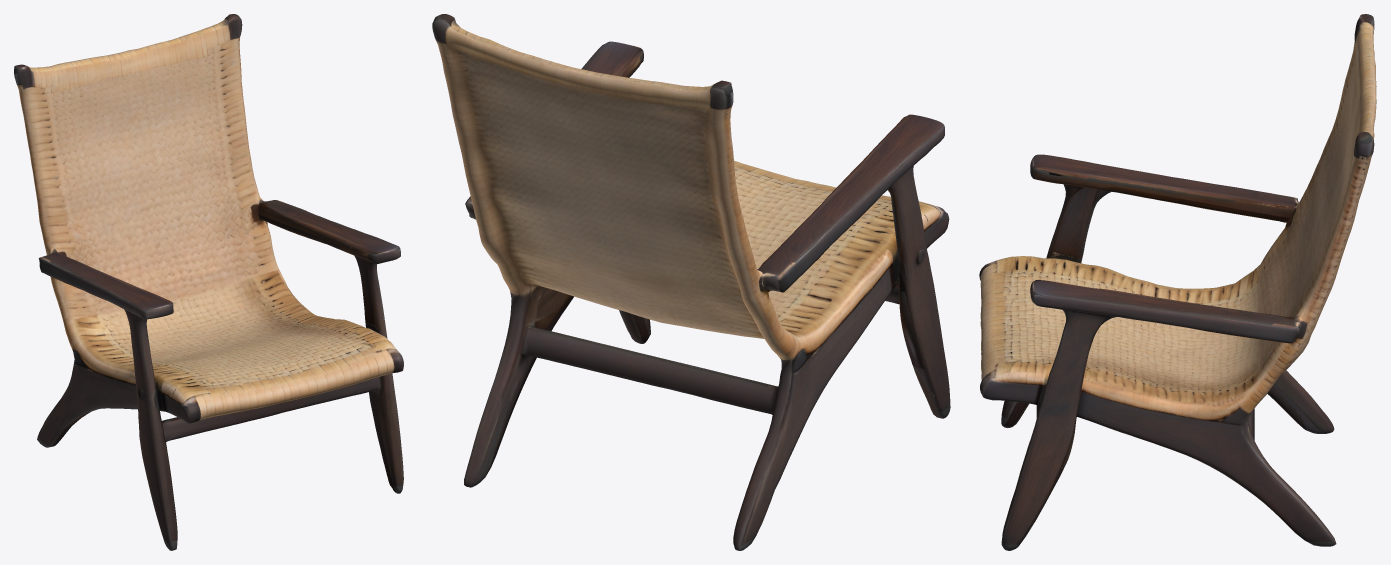
Rendered from woven_lounge_chair.glb.
3 views of the same model, side by side, from view 1: azimuth 30°, elevation 25°; view 2: azimuth 150°, elevation 25°; view 3: azimuth 270°, elevation 25° (orthographic). The views are drawn at different scales.
Parts seen in each view (by area): view 1: Object_4; view 2: Object_4; view 3: Object_4.
Boxes of the visible parts, box(x1,y1,x2,y2) form: Object_4: box(14, 14, 403, 550); Object_4: box(432, 14, 950, 550); Object_4: box(979, 14, 1376, 550).
Bounding box in the file's own units: 1.48 × 2 × 1.73.
Materials: 1 (1 with a texture image).
